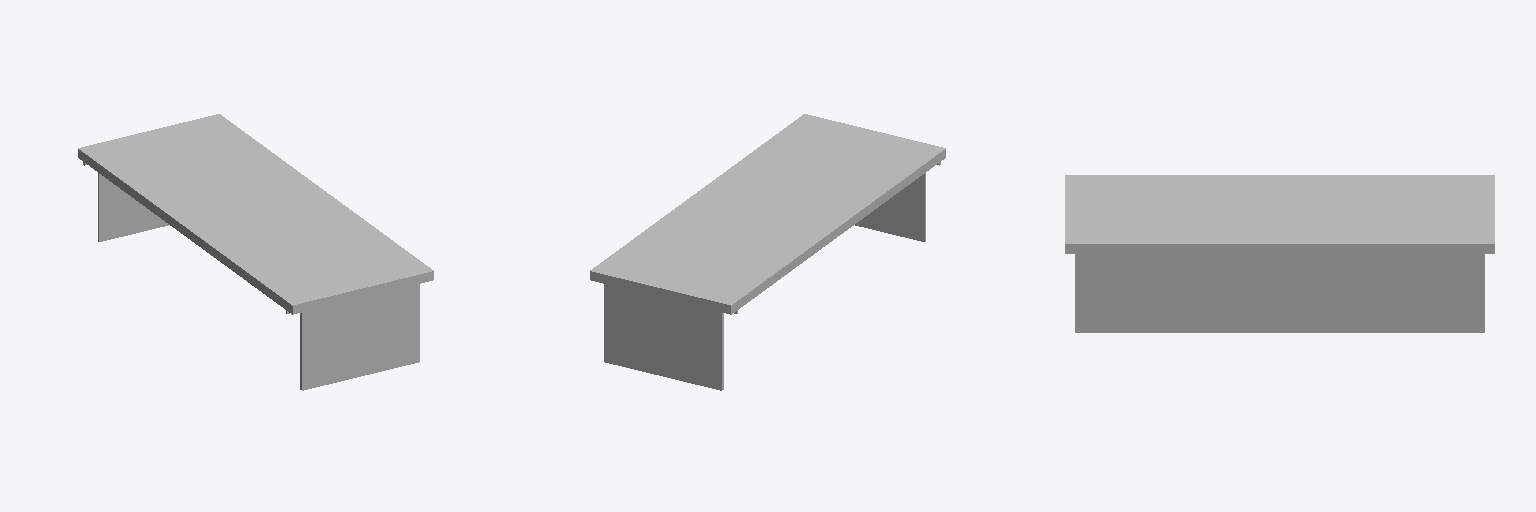
The model's file is table.obj.
The picture shows the model from 3 angles: view 1: azimuth 30°, elevation 25°; view 2: azimuth 150°, elevation 25°; view 3: azimuth 270°, elevation 25°; orthographic projection.
Parts seen in each view (by area): view 1: table; view 2: table; view 3: table.
Boxes of the visible parts, <box> form: table: <box>78,114,433,390</box>; table: <box>590,114,945,390</box>; table: <box>1065,175,1494,332</box>.
Bounding box in the file's own units: 48 × 30 × 126.